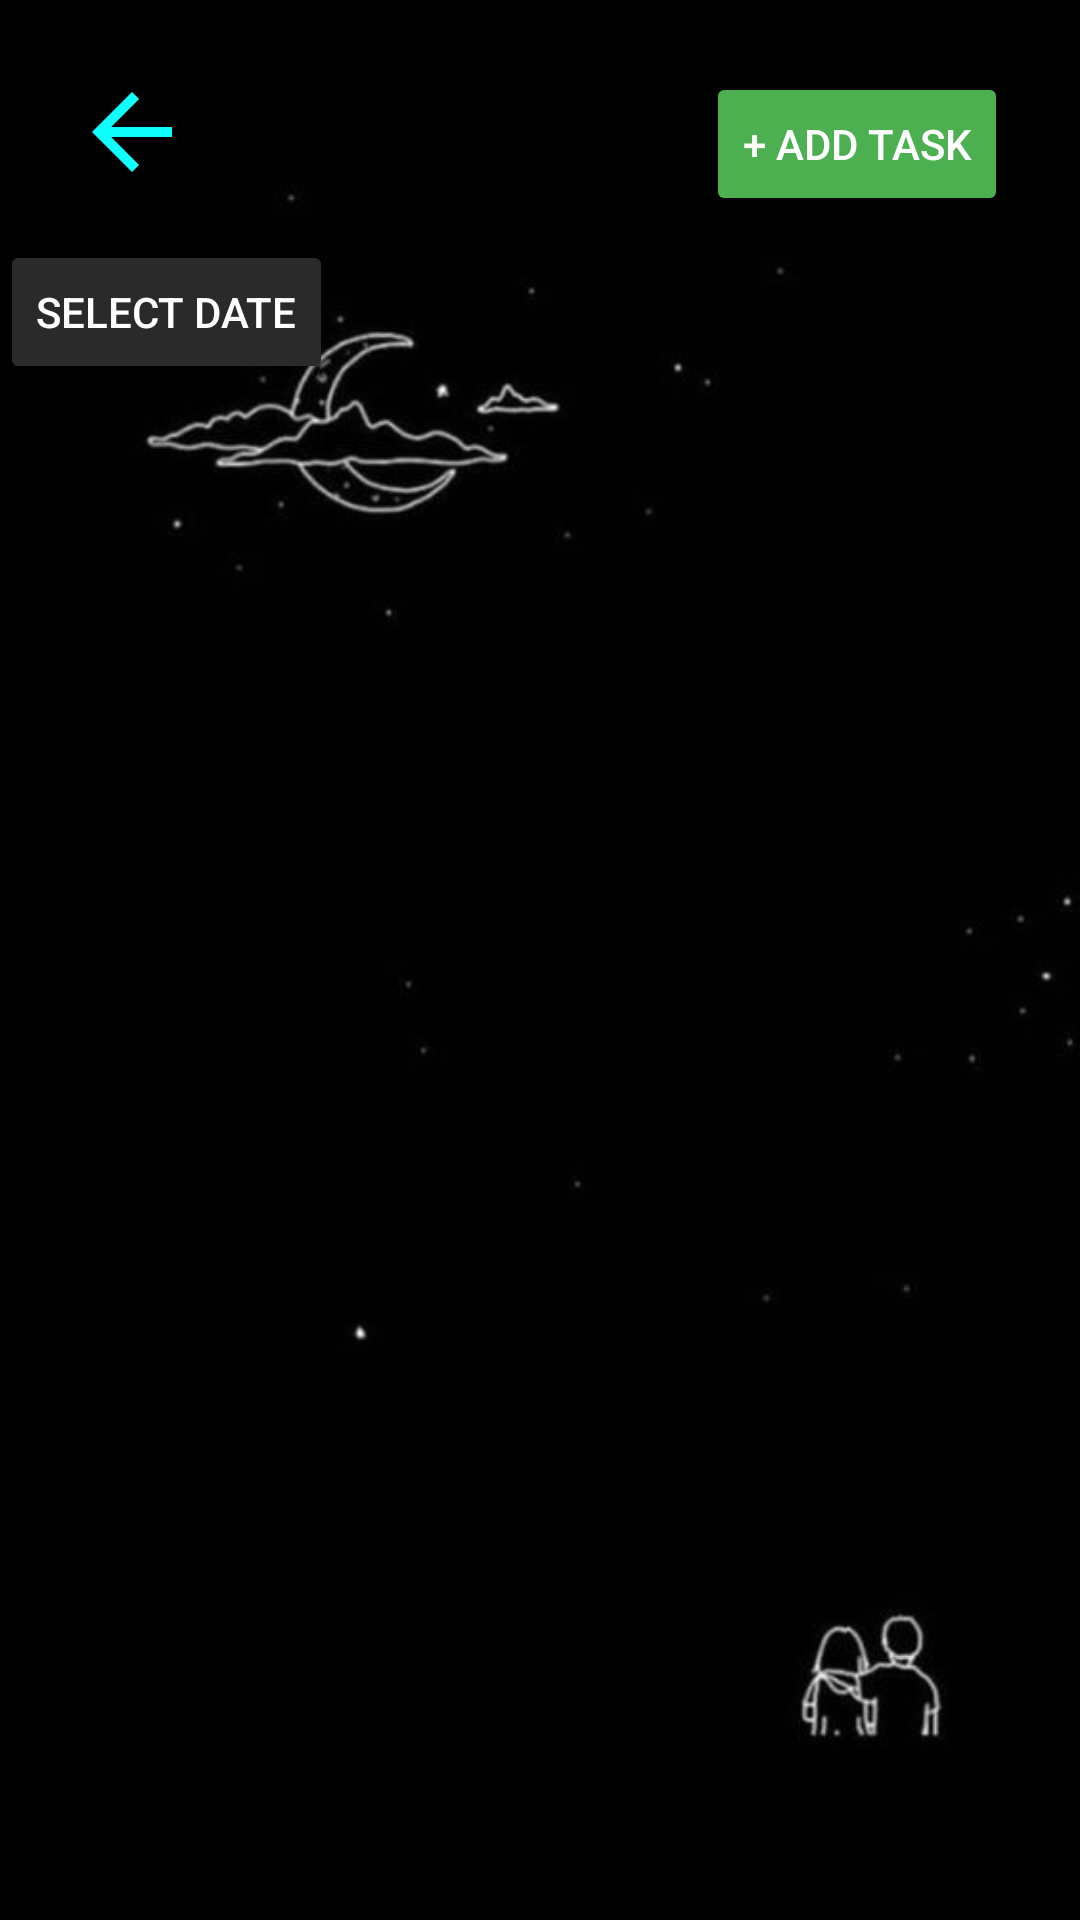

Screen size 1080px x 1920px. Icon name, then its box in pixels as {"left": x1, "top": y1, "right": x2, "bottom": y2}:
Back: {"left": 92, "top": 92, "right": 172, "bottom": 172}
